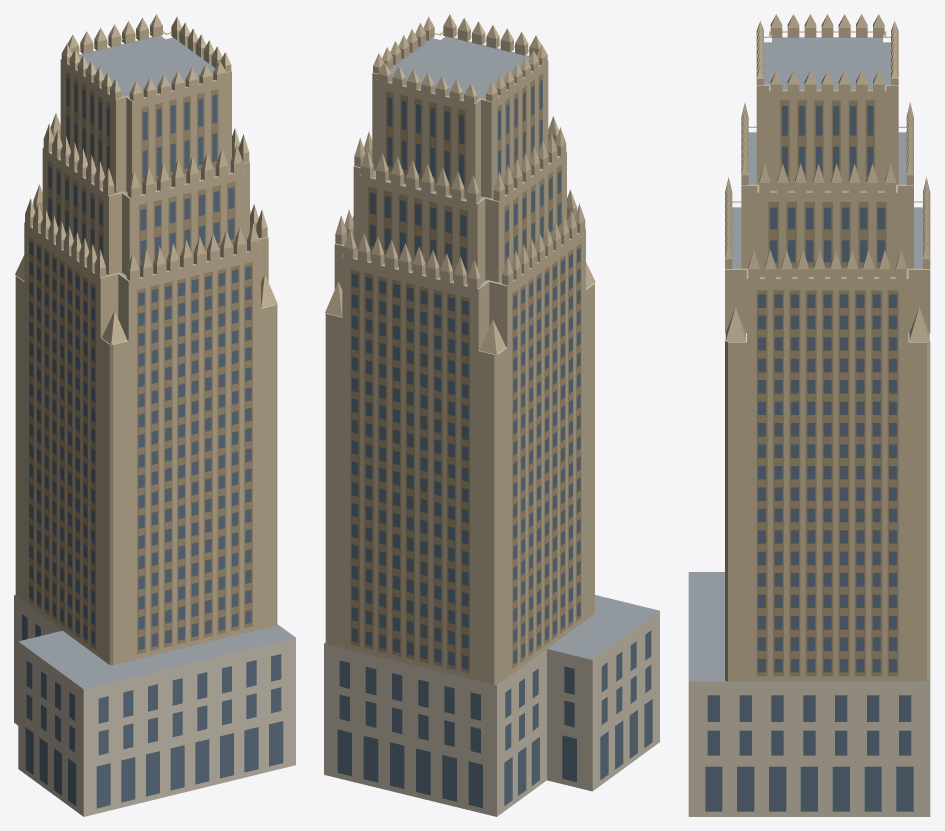
The model's file is hou-gulf-building.glb.
3 views of the same model, side by side, from view 1: azimuth 30°, elevation 25°; view 2: azimuth 150°, elevation 25°; view 3: azimuth 270°, elevation 25° (orthographic). The views are drawn at different scales.
Visible parts, largest first — view 1: Gulf Building; view 2: Gulf Building; view 3: Gulf Building.
Boxes of the visible parts, x1,y1,x2,y2 form: Gulf Building: [14, 14, 295, 816]; Gulf Building: [324, 14, 659, 816]; Gulf Building: [688, 14, 930, 816].
Size of the model in its own units: 42.2 by 131 by 39.3.
